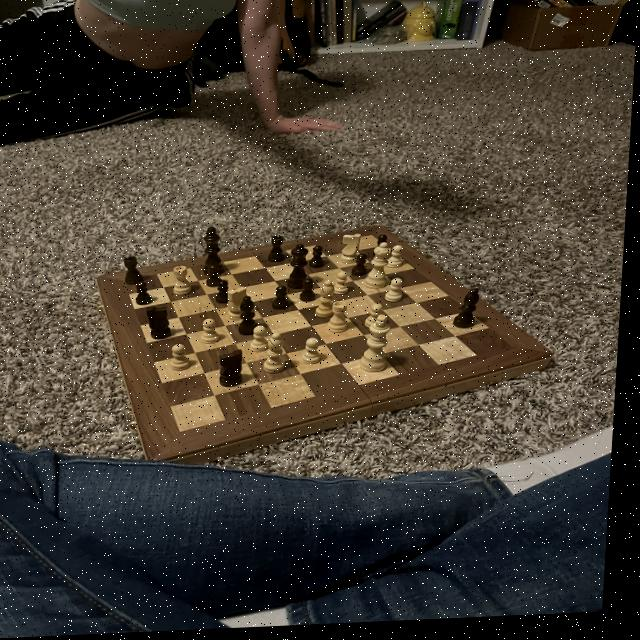bishop: (456, 290, 490, 336), (240, 297, 264, 340)
black-bishop: (204, 227, 232, 281)
black-king: (146, 305, 178, 344), (221, 351, 250, 392)
black-knight: (137, 280, 159, 309), (207, 265, 231, 291), (273, 287, 296, 313), (310, 246, 332, 272), (302, 280, 323, 307), (354, 257, 374, 282), (218, 282, 237, 308), (376, 235, 393, 256)
black-pawn: (289, 245, 319, 294)
black-queen: (125, 256, 150, 288), (271, 238, 289, 267)
black-rook: (265, 333, 295, 377), (318, 283, 343, 322)
white-bishop: (363, 315, 398, 378)
white-king: (227, 286, 256, 323), (341, 235, 369, 267)
white-knight: (172, 344, 198, 374), (252, 327, 276, 356), (203, 319, 226, 348), (306, 339, 328, 369), (367, 305, 390, 333), (334, 273, 356, 300), (387, 281, 408, 307), (390, 247, 410, 273)
white-pawn: (365, 243, 399, 294)
white-queen: (327, 302, 356, 339), (173, 266, 199, 298)
